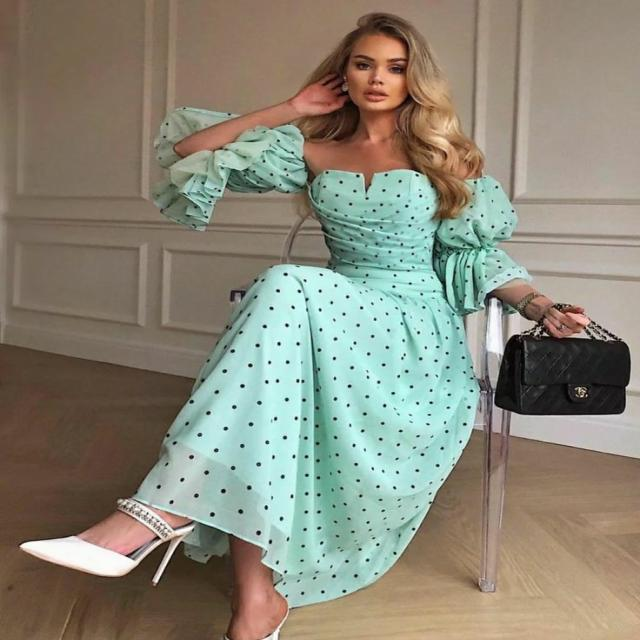female-dress: (186, 125, 502, 558)
